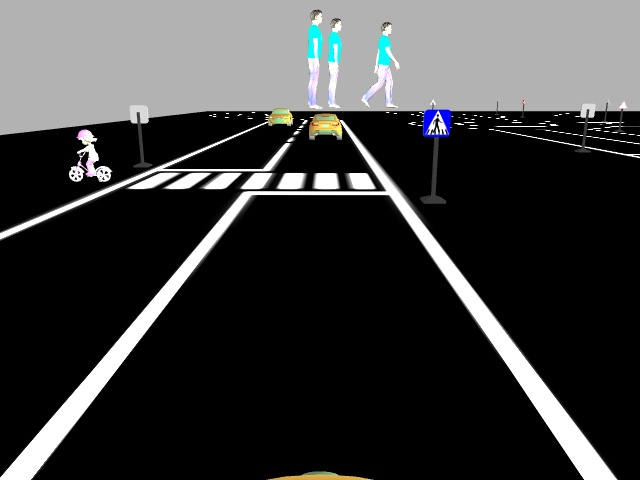Crosswalk: (421, 107, 452, 139)
Pedestrian: (68, 127, 112, 186)
